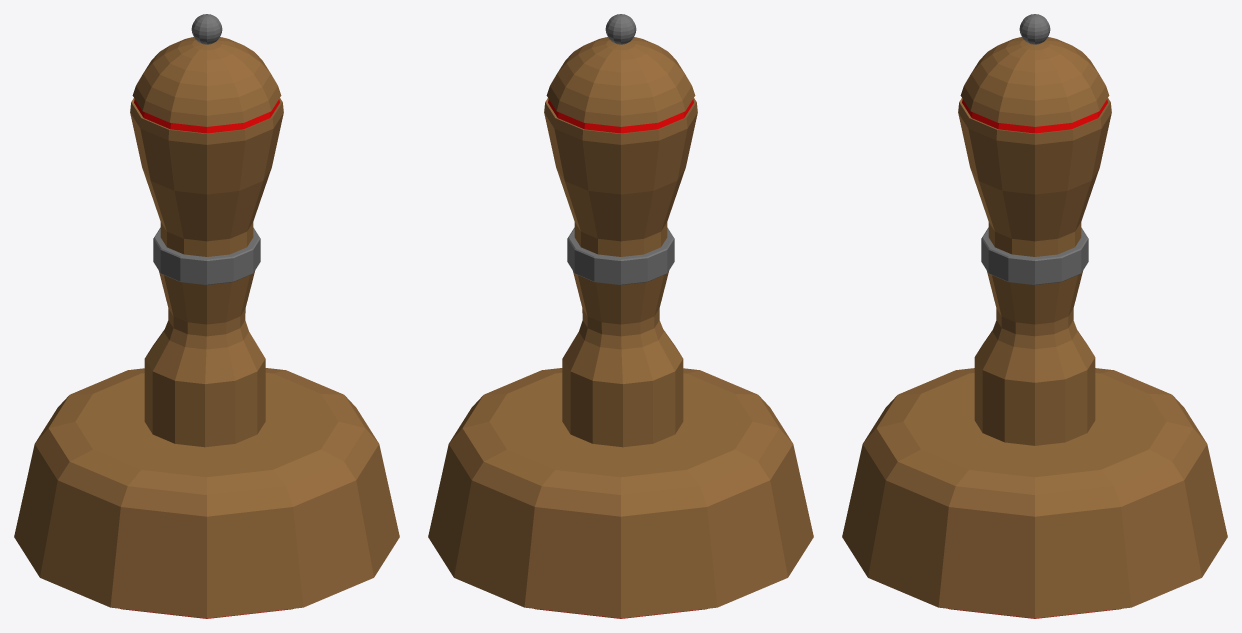
The model's file is Stempel_B_Final.fbx.
3 views of the same model, side by side, from view 1: azimuth 30°, elevation 25°; view 2: azimuth 150°, elevation 25°; view 3: azimuth 270°, elevation 25° (orthographic).
Parts seen in each view (by area): view 1: Cube.013; view 2: Cube.013; view 3: Cube.013.
Part boxes in pixels (box(x1,y1,x2,y2)): Cube.013: box(14, 14, 399, 618); Cube.013: box(428, 14, 813, 618); Cube.013: box(842, 14, 1227, 618).
Size of the model in its own units: 14.66 by 22.27 by 14.66.
